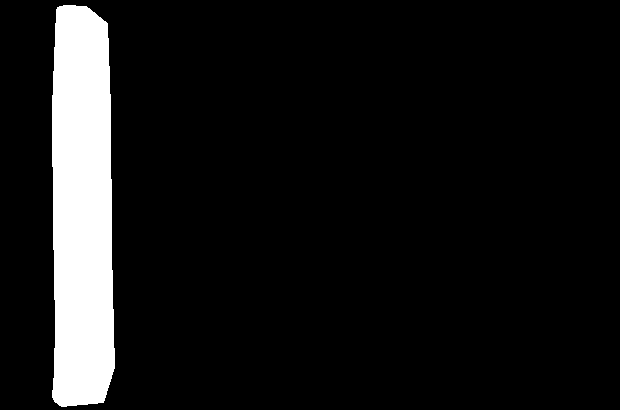type5: (46, 1, 122, 407)
